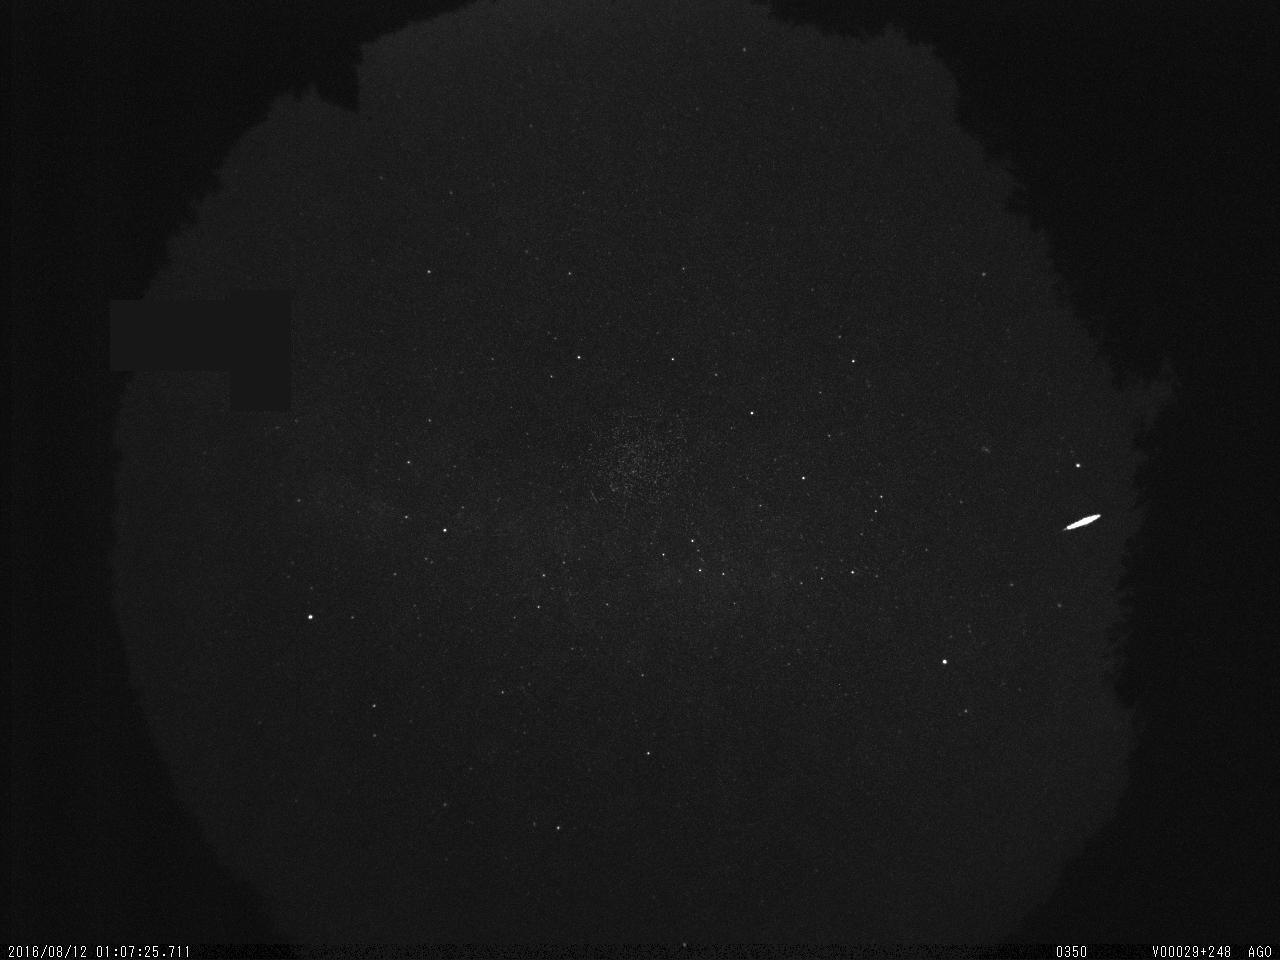meteor: (1055, 497, 1119, 542)
